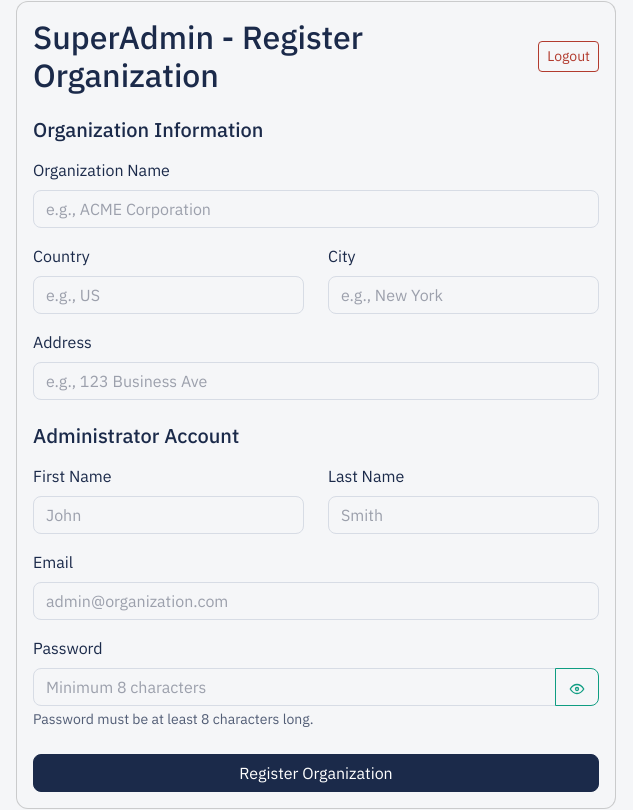
SuperAdminPage › toggles password visibility when the eye button is clicked
Click the button named "show password": x=577, y=687 [555,668,599,706]
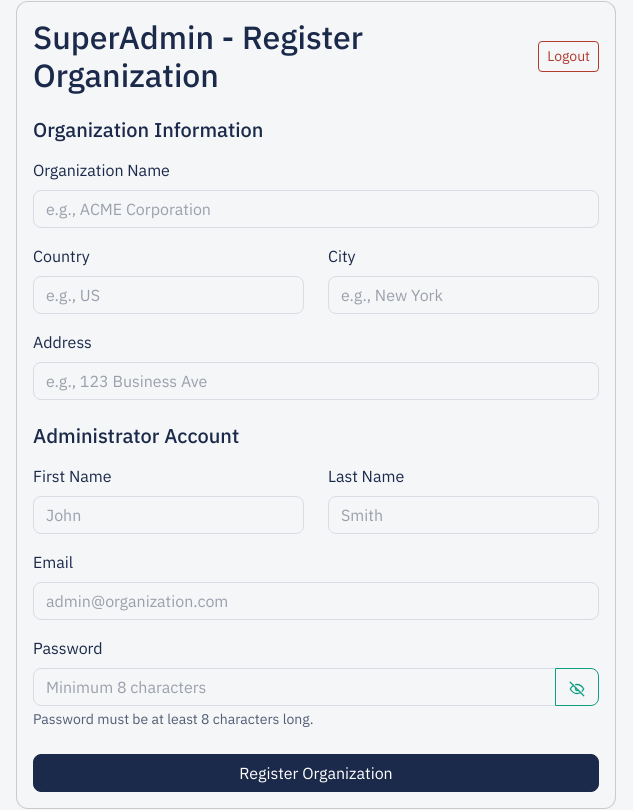
Expected: the button named "hide password" is shown, [555,668,599,706]
